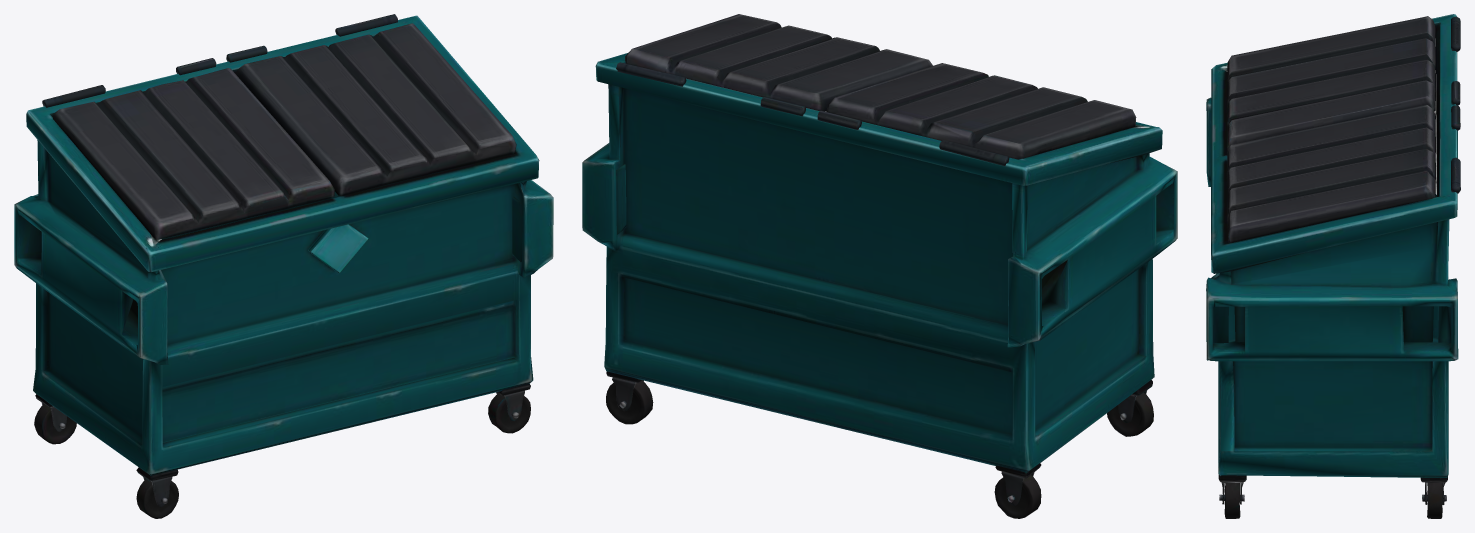
The model's file is dumpster.glb.
The picture shows the model from 3 angles, left to right: view 1: azimuth 30°, elevation 25°; view 2: azimuth 150°, elevation 25°; view 3: azimuth 270°, elevation 25°; orthographic projection. The views are drawn at different scales.
Parts seen in each view (by area): view 1: dumpster; view 2: dumpster; view 3: dumpster.
Boxes of the visible parts, <box> form: dumpster: <box>14,14,553,518</box>; dumpster: <box>582,14,1177,518</box>; dumpster: <box>1206,14,1460,518</box>.
Bounding box in the file's own units: 2 × 1.55 × 1.08.
Materials: 1 (1 with a texture image).
